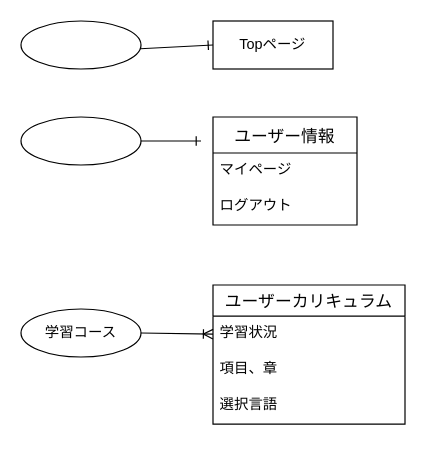
Some shapes in this 426 by 449 pixel diagram are drawn without their labels. Each missing label, with the centre of its shape:
"ヘッダーロゴ" belongs at point 80,44.
"ユーザー名" belongs at point 80,140.
